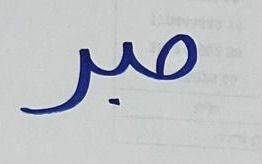beh: (93, 33, 140, 111)
heh: (142, 20, 202, 90)
lam: (15, 33, 92, 119)
